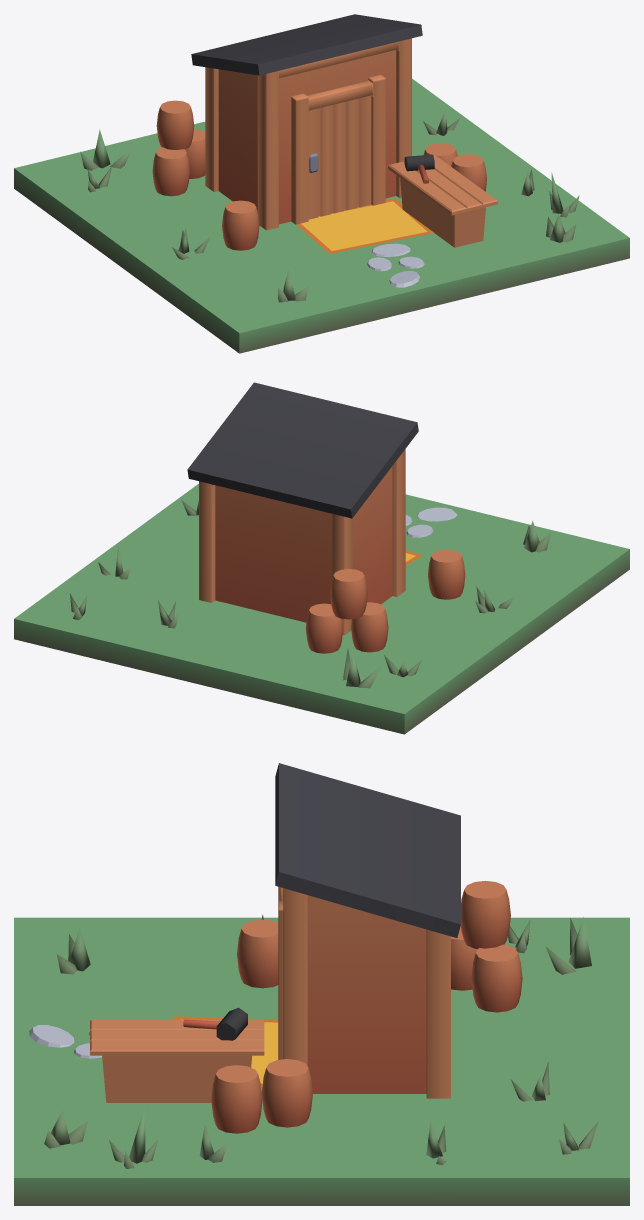
The model's file is tool_shed.glb.
3 renders of one model, top to bottom at view 1: azimuth 30°, elevation 25°; view 2: azimuth 150°, elevation 25°; view 3: azimuth 270°, elevation 25°, orthographic. The views are drawn at different scales.
Visible parts, largest first — view 1: tool_shed; view 2: tool_shed; view 3: tool_shed.
Boxes of the visible parts, box(x1,y1,x2,y2) form: tool_shed: box(14, 14, 629, 353); tool_shed: box(14, 382, 629, 734); tool_shed: box(14, 763, 629, 1205).
Bounding box in the file's own units: 1 × 0.4651 × 1.
Materials: 1 (1 with a texture image).
